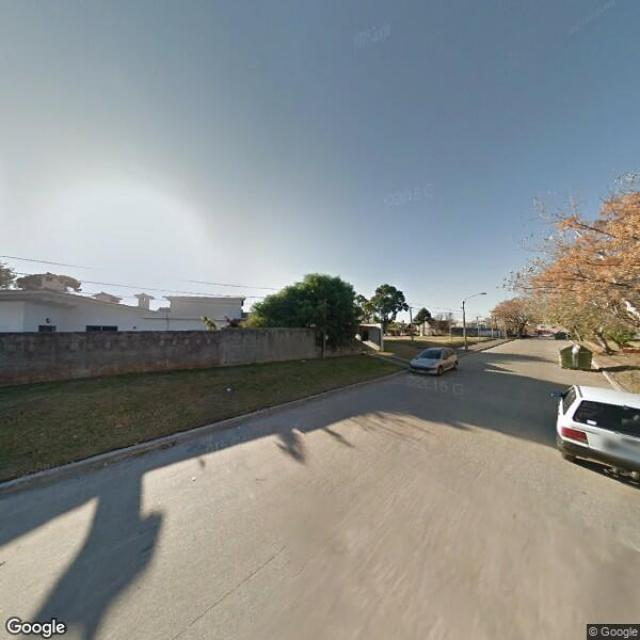garbage container: (554, 336, 602, 377)
